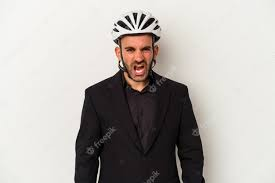helmet: (112, 9, 163, 82)
